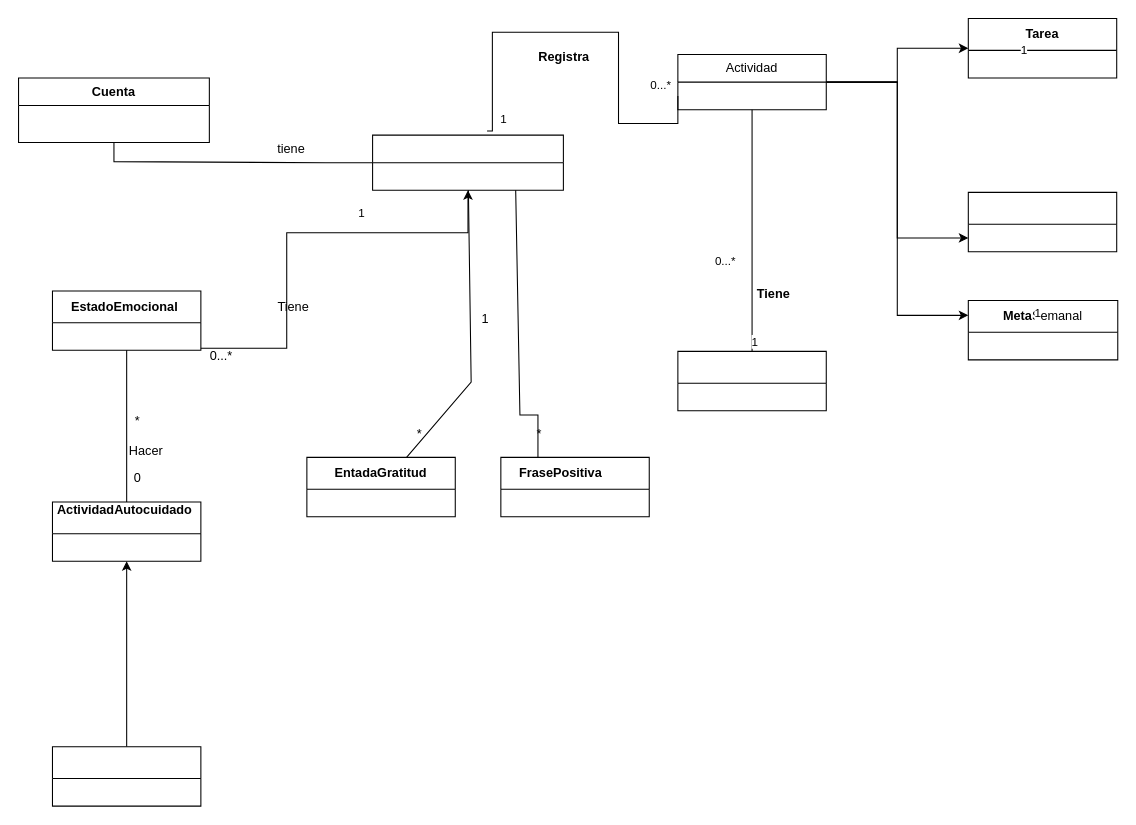
The diagram is 1136 pixels wide and 825 high, and some of its shapes have lost their labels. Here are the shapes that lost their labels. From the top down, the centre of each, then its label:
At point 467,162: "Usuario".
At point 1042,221: "Evento".
At point 751,380: "Categoria".
At point 126,776: "Accioon".
